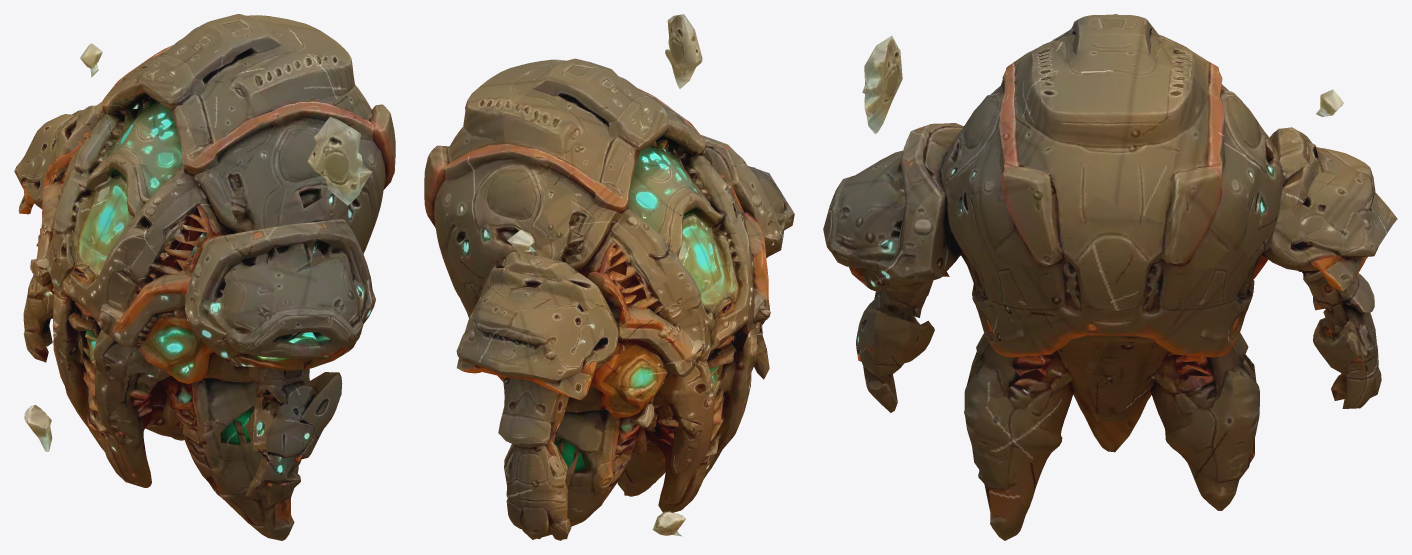
Rendered from enemy_dread.glb.
The picture shows the model from 3 angles, left to right: view 1: azimuth 30°, elevation 25°; view 2: azimuth 150°, elevation 25°; view 3: azimuth 270°, elevation 25°; orthographic projection. The views are drawn at different scales.
Parts seen in each view (by area): view 1: tripo_node_c17a9197-d9e4-4881-8eab-6d3dcc170324; view 2: tripo_node_c17a9197-d9e4-4881-8eab-6d3dcc170324; view 3: tripo_node_c17a9197-d9e4-4881-8eab-6d3dcc170324.
Boxes of the visible parts, x1,y1,x2,y2 form: tripo_node_c17a9197-d9e4-4881-8eab-6d3dcc170324: (14,14,395,540); tripo_node_c17a9197-d9e4-4881-8eab-6d3dcc170324: (424,14,794,540); tripo_node_c17a9197-d9e4-4881-8eab-6d3dcc170324: (823,14,1397,540).
Bounding box in the file's own units: 0.654 × 0.9979 × 0.9987.
1 material, 1 textured.
